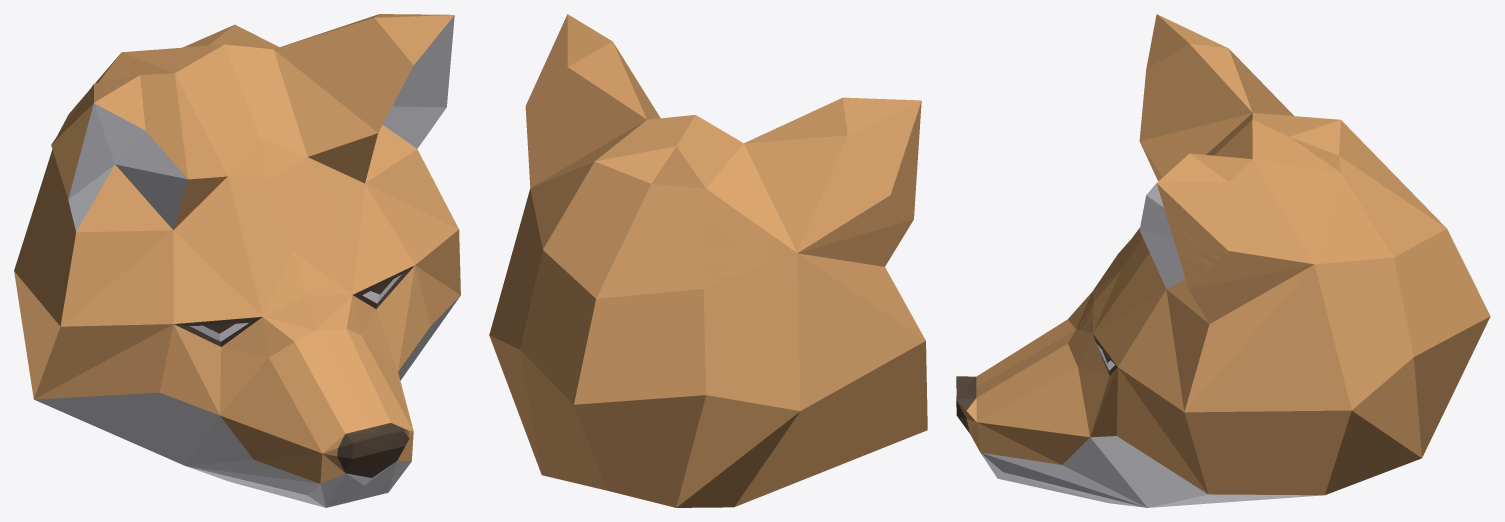
File: tibetan-sand-fox.glb
The picture shows the model from 3 angles, left to right: view 1: azimuth 30°, elevation 25°; view 2: azimuth 150°, elevation 25°; view 3: azimuth 270°, elevation 25°; orthographic projection. The views are drawn at different scales.
Visible parts, largest first — view 1: fox; view 2: fox; view 3: fox.
Boxes of the visible parts, x1,y1,x2,y2 form: fox: (14,14,460,507); fox: (489,14,927,507); fox: (956,14,1490,507).
Bounding box in the file's own units: 216 × 188 × 244.
